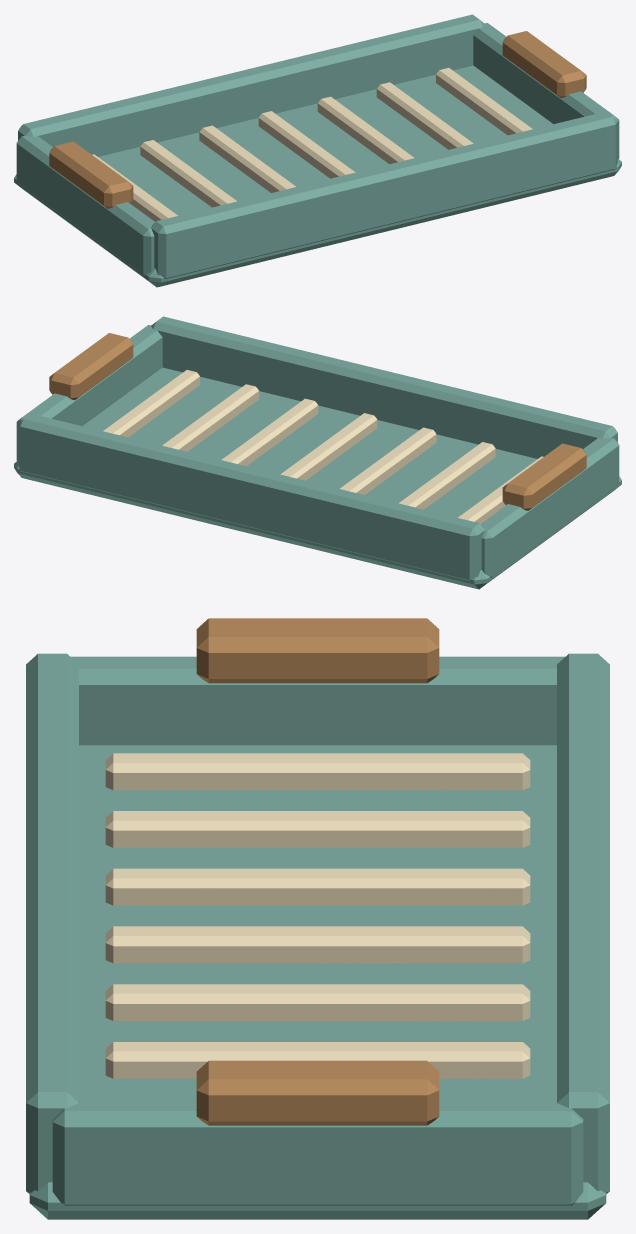
3 renders of one model, top to bottom at view 1: azimuth 30°, elevation 25°; view 2: azimuth 150°, elevation 25°; view 3: azimuth 270°, elevation 25°, orthographic. The views are drawn at different scales.
Parts seen in each view (by area): view 1: entryway-boot-tray-01; view 2: entryway-boot-tray-01; view 3: entryway-boot-tray-01.
Boxes of the visible parts, bbox=[...] form: entryway-boot-tray-01: bbox=[14, 14, 621, 287]; entryway-boot-tray-01: bbox=[14, 316, 621, 589]; entryway-boot-tray-01: bbox=[26, 618, 609, 1219].
Size of the model in its own units: 0.735 by 0.1075 by 0.385.
